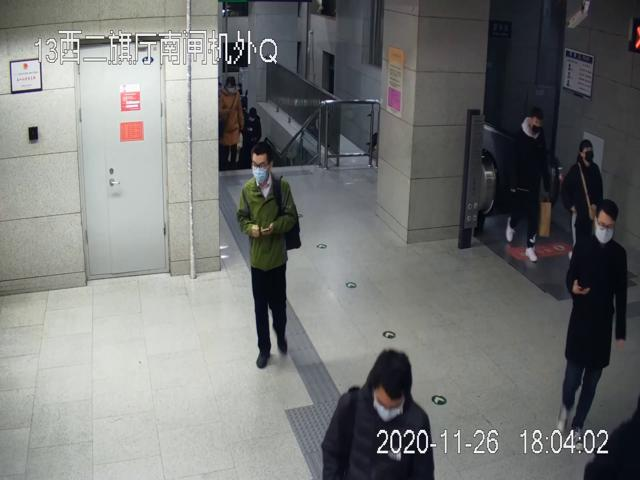person: (562, 194, 627, 448), (234, 140, 302, 368), (503, 101, 552, 267)
